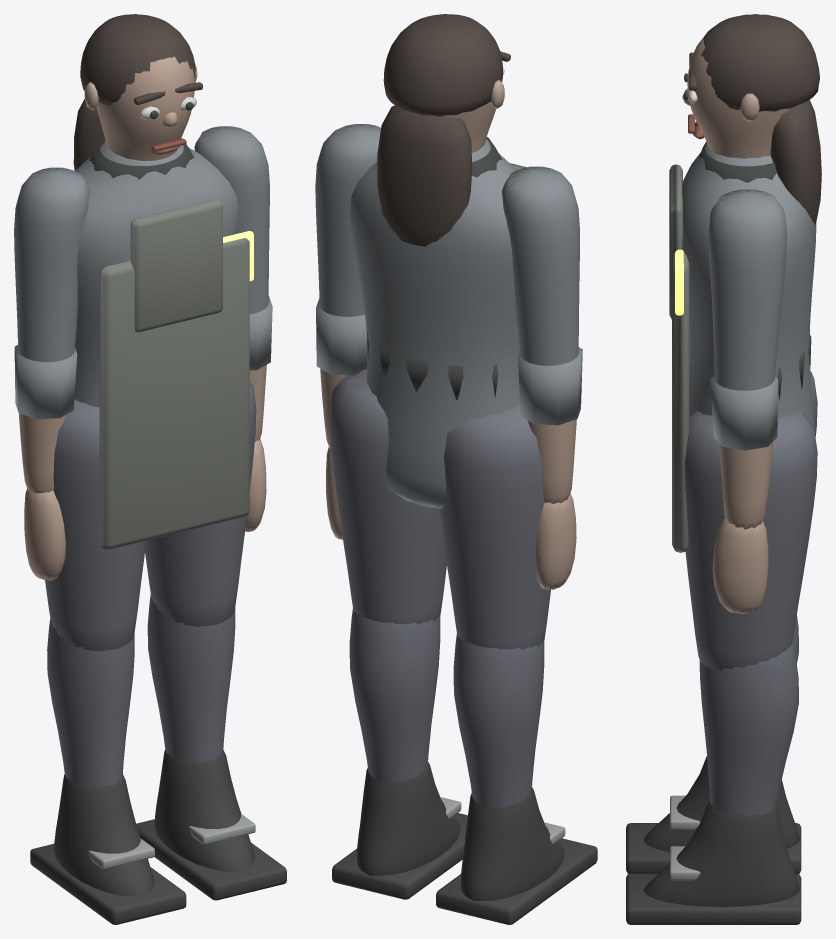
Rendered from resident_still_e_v6.glb.
The picture shows the model from 3 angles, left to right: view 1: azimuth 30°, elevation 25°; view 2: azimuth 150°, elevation 25°; view 3: azimuth 270°, elevation 25°; orthographic projection. The views are drawn at different scales.
Parts seen in each view (by area): view 1: HabResidentStill; view 2: HabResidentStill; view 3: HabResidentStill.
Boxes of the visible parts, left/top/right/bottom form: HabResidentStill: left=14, top=14, right=286, bottom=924; HabResidentStill: left=315, top=14, right=597, bottom=924; HabResidentStill: left=626, top=14, right=821, bottom=924.
Size of the model in its own units: 0.5346 by 1.7 by 0.3513.
